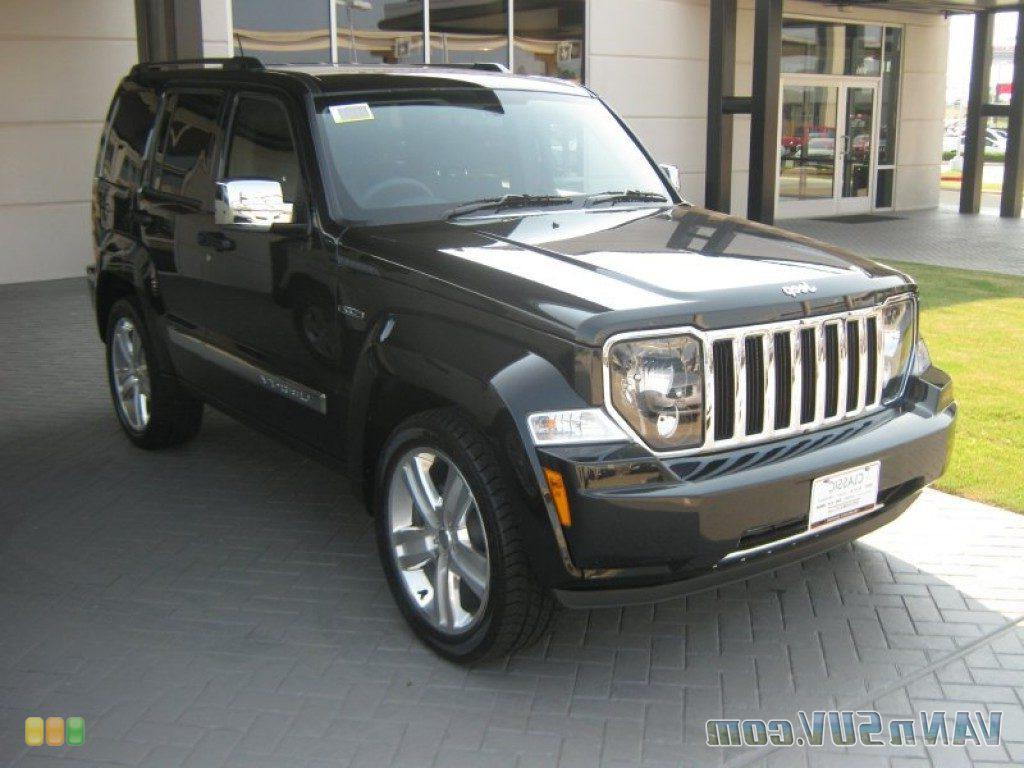Car: (39, 25, 970, 677)
